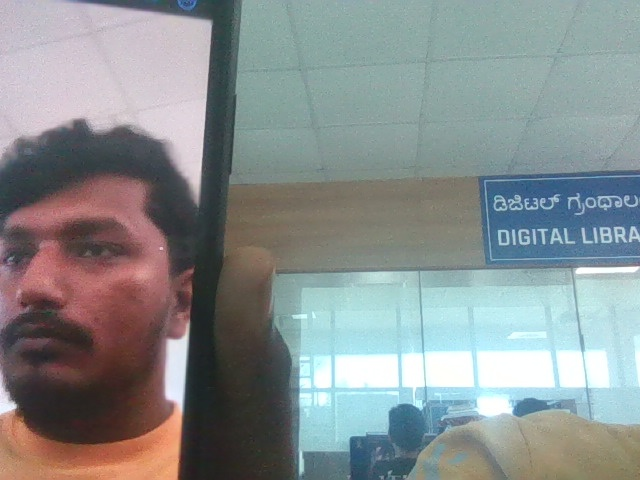fake: (0, 81, 244, 427)
